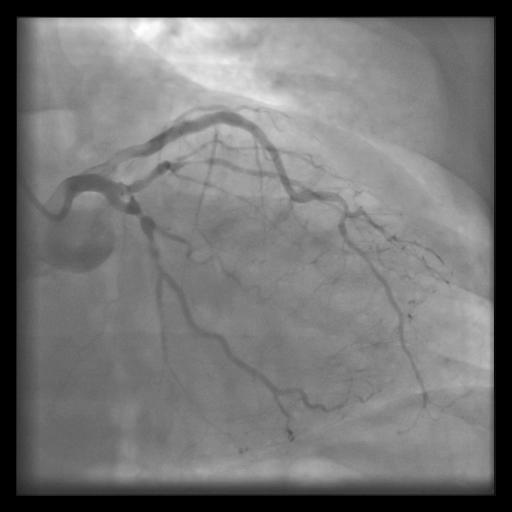Stenosis: (127, 200, 150, 228)
